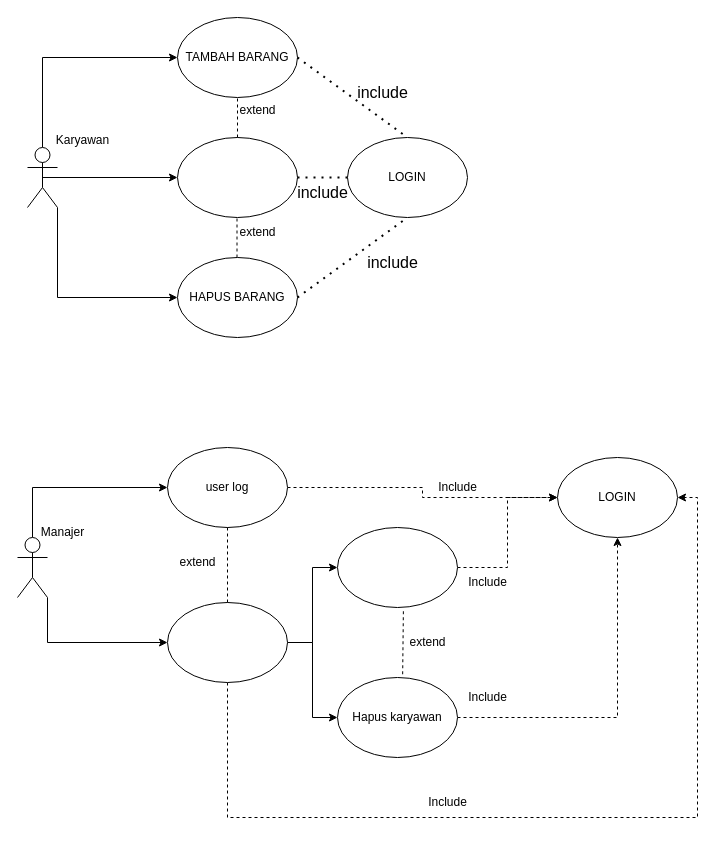
Some shapes in this 723 by 843 pixel diagram are drawn without their labels. Here are the shapes that lost their labels. From the top down, the centre of each, then its label:
At [237,177]: "UPDATE BARANG".
At [397,567]: "Tambah Karyawan".
At [227,642]: "list karyawan".
